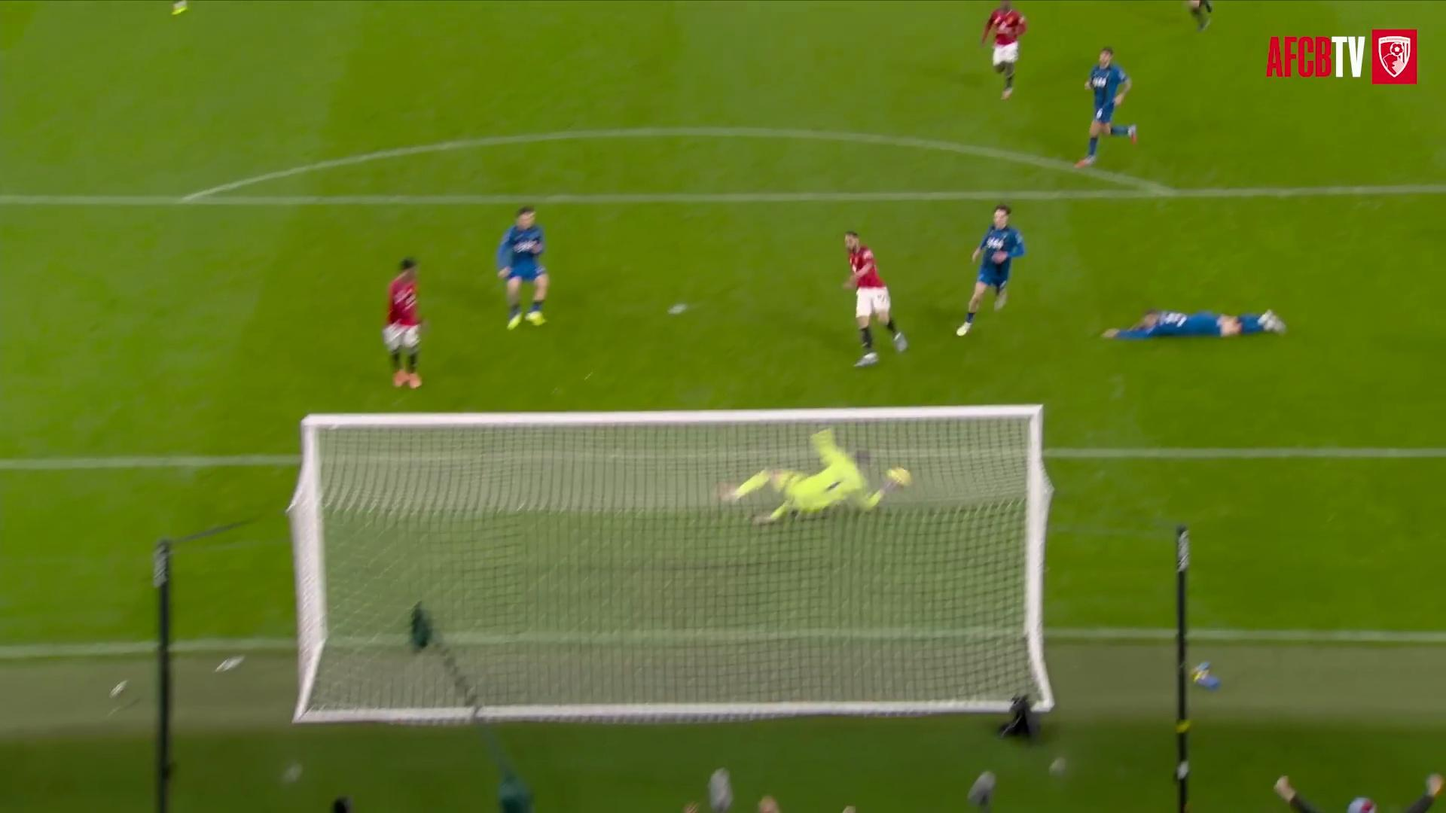football: (883, 458, 922, 499)
player: (720, 429, 906, 523), (956, 204, 1024, 336), (844, 231, 907, 367), (1076, 47, 1136, 167), (498, 207, 548, 329), (1103, 309, 1285, 339), (383, 258, 421, 388), (981, 0, 1026, 98), (1186, 0, 1213, 31)
